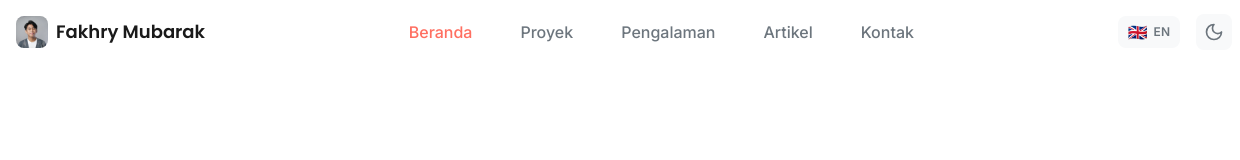
Test: Header i18n › language toggle switches nav labels to English
Click the button with test id "language-toggle" at point(1149, 32), box x1=1118 y1=16 x2=1180 y2=48
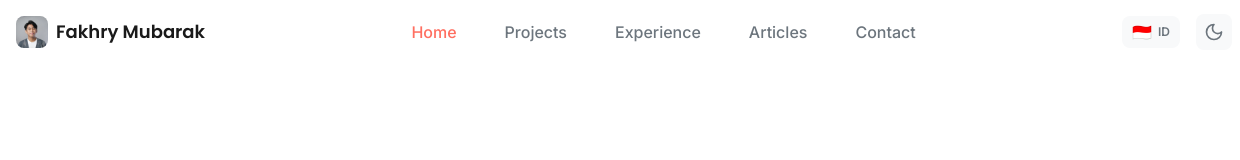
Expected: the button "Home" is shown, x1=403 y1=16 x2=465 y2=48
